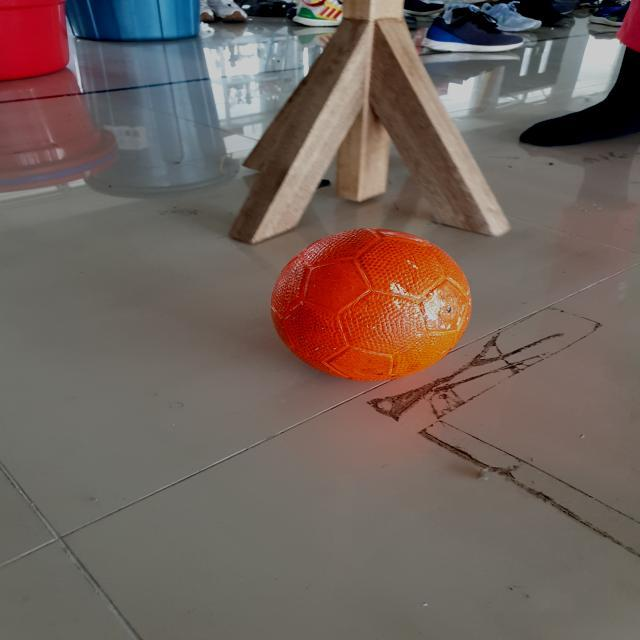bola: (270, 222, 478, 387)
